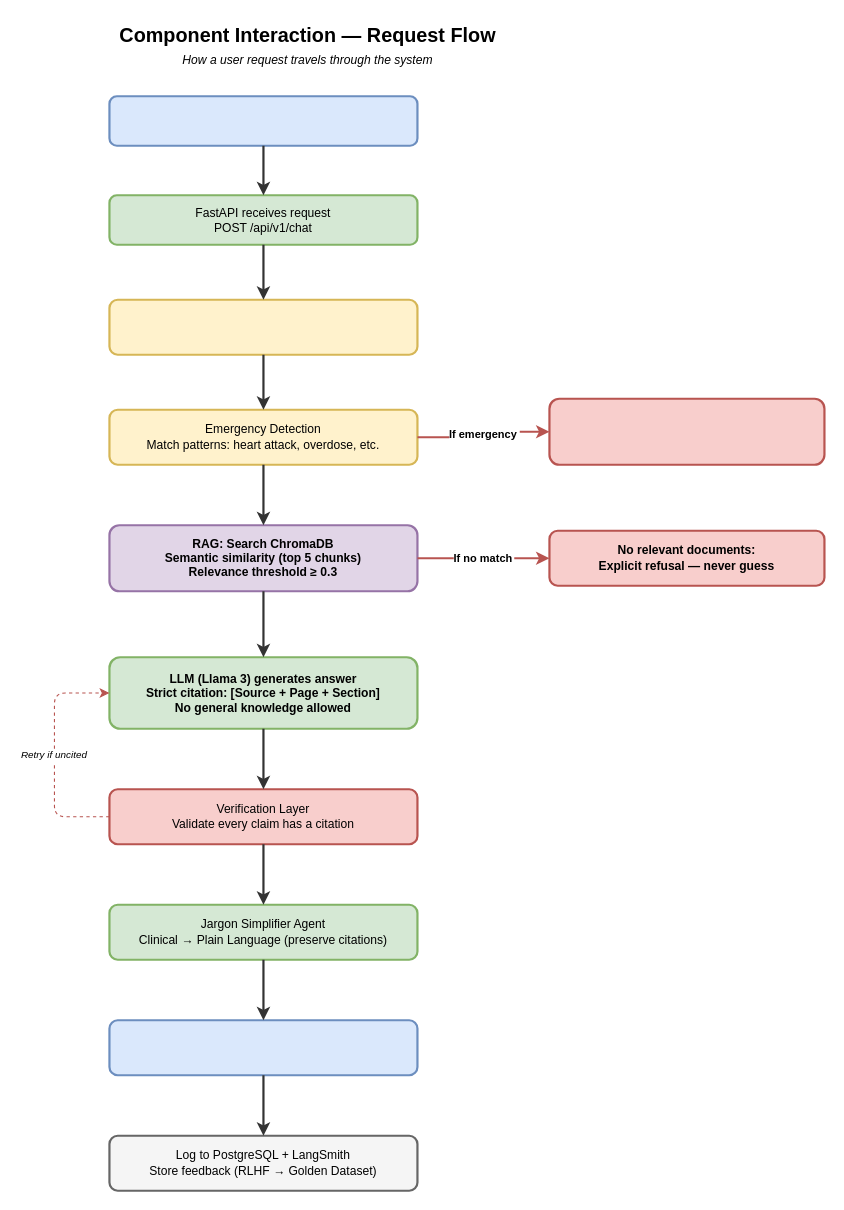
The diagram is 844 pixels wide and 1210 high, and some of its shapes have lost their labels. Each missing label, with the centre of its shape:
Emergency: Return 911 / 988 guidance AI locked from responding: point 686,431
PII Sanitization Redact email, phone, SSN, DOB, MRN: point 263,326
Return response to user Simplified answer + citations + source snippets: point 263,1047
User submits health question: point 263,120
